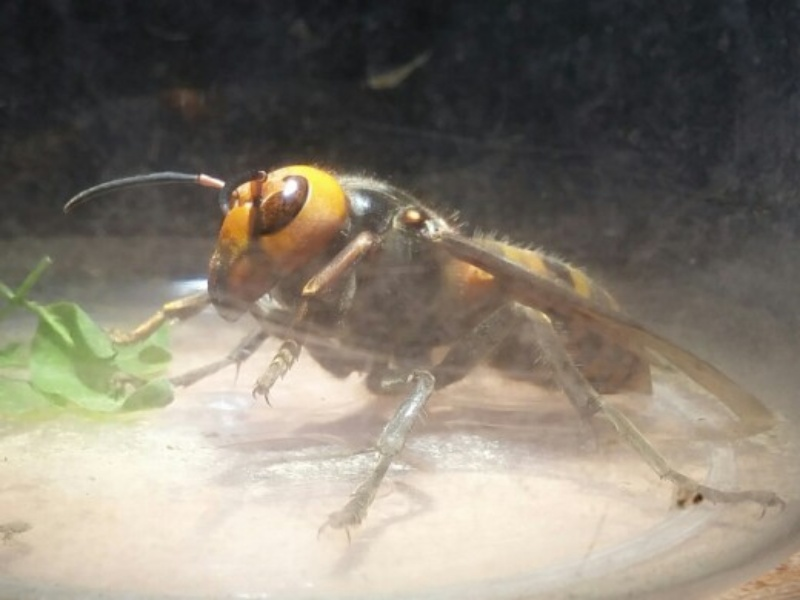asian_giant_hornet: (63, 154, 665, 450)
